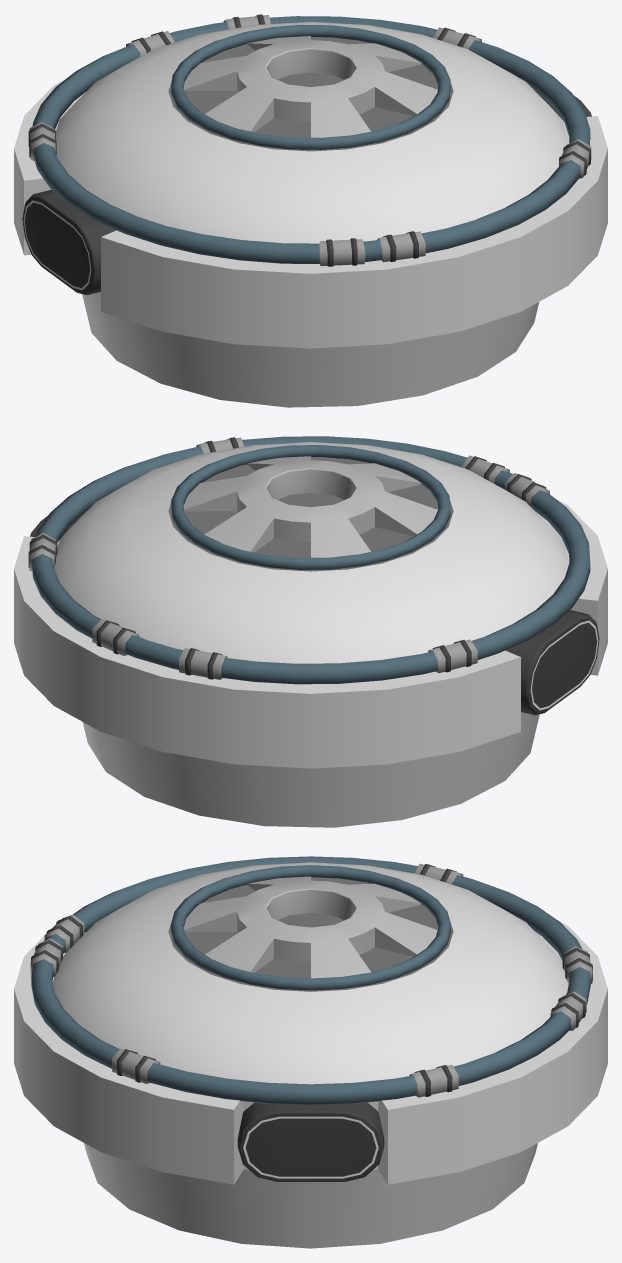
The model's file is space_station_011.fbx.
The picture shows the model from 3 angles, top to bottom: view 1: azimuth 30°, elevation 25°; view 2: azimuth 150°, elevation 25°; view 3: azimuth 270°, elevation 25°; orthographic projection.
Parts seen in each view (by area): view 1: space_station_011; view 2: space_station_011; view 3: space_station_011.
Part boxes in pixels (x1,y1,x2,y2): space_station_011: [14, 14, 607, 407]; space_station_011: [14, 436, 607, 827]; space_station_011: [14, 856, 607, 1248].
Size of the model in its own units: 2370 by 2404 by 1098.
